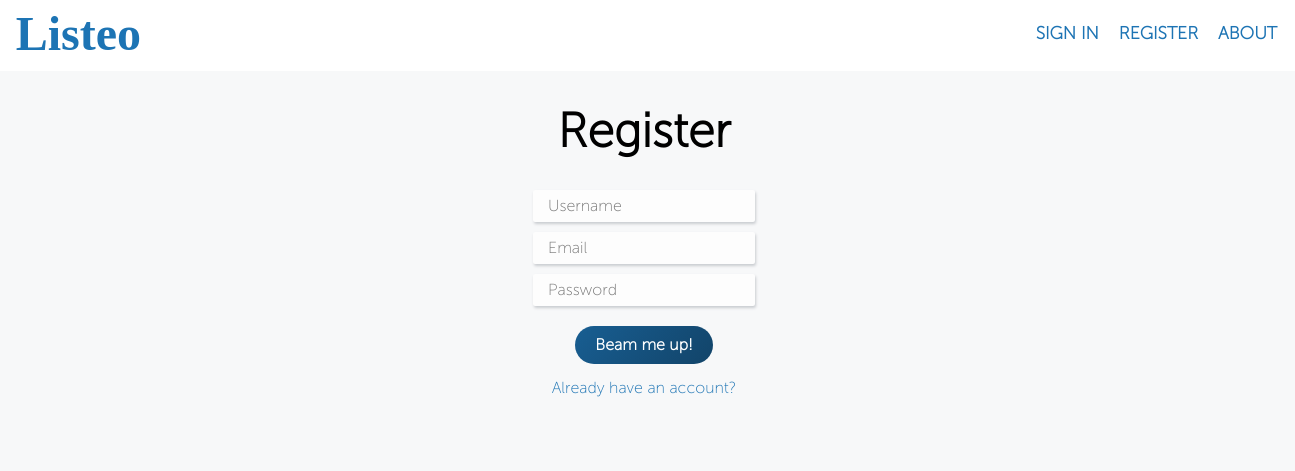
Test: Register › Username field › does not accept usernames with special characters
Type "!@$$!" into the field with test id "register--username" at (644, 206), box [533, 190, 755, 222]
Then press Enter
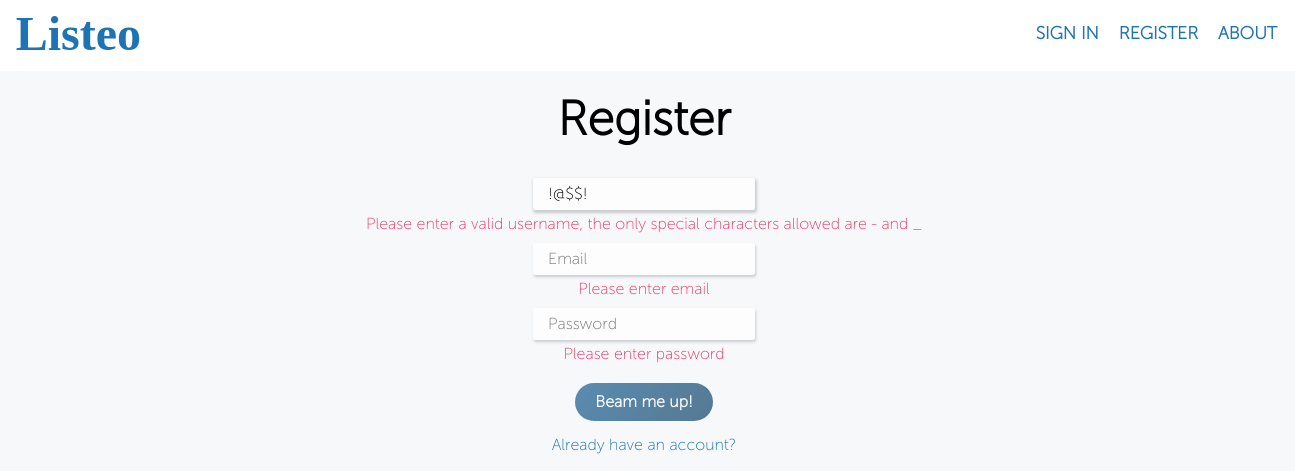
Expected: the text "Please enter a valid username, the only special characters allowed are - and _" is shown, [366, 215, 922, 233]
